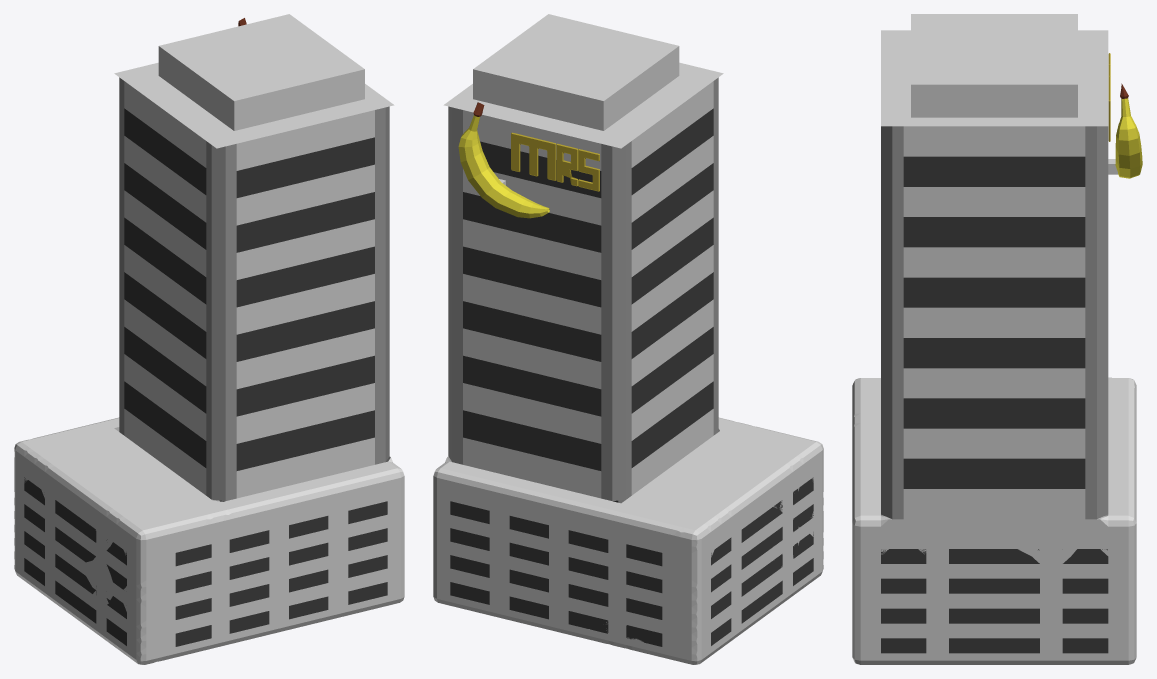
Rendered from MRS.fbx.
The picture shows the model from 3 angles, left to right: view 1: azimuth 30°, elevation 25°; view 2: azimuth 150°, elevation 25°; view 3: azimuth 270°, elevation 25°; orthographic projection. The views are drawn at different scales.
Visible parts, largest first — view 1: Cube, Cube.001, Windows, Cube.002; view 2: Cube, Cube.001, Windows, Cube.002, Banana, Plane, Plane.001, Plane.002; view 3: Cube, Windows, Cube.001, Cube.002, Banana.
Part boxes in pixels (left/top/right/bottom): Cube: left=114, top=14, right=394, bottom=498; Cube.001: left=14, top=417, right=404, bottom=664; Windows: left=24, top=108, right=387, bottom=646; Cube.002: left=119, top=77, right=389, bottom=501; Cube: left=443, top=14, right=723, bottom=498; Cube.001: left=433, top=417, right=823, bottom=664; Windows: left=450, top=108, right=813, bottom=646; Cube.002: left=448, top=77, right=718, bottom=501; Banana: left=458, top=102, right=549, bottom=218; Plane: left=511, top=132, right=556, bottom=180; Plane.001: left=556, top=143, right=578, bottom=186; Plane.002: left=578, top=149, right=599, bottom=191; Cube: left=881, top=14, right=1108, bottom=519; Windows: left=881, top=156, right=1108, bottom=653; Cube.001: left=852, top=377, right=1136, bottom=664; Cube.002: left=881, top=126, right=1108, bottom=519; Banana: left=1115, top=83, right=1142, bottom=178.
Size of the model in its own units: 2687 by 4983 by 2281.
